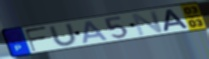5: (103, 15, 131, 40)
A: (82, 20, 111, 45), (163, 8, 191, 32)
F: (23, 25, 49, 52)
N: (130, 9, 165, 37)
U: (48, 22, 80, 47)
